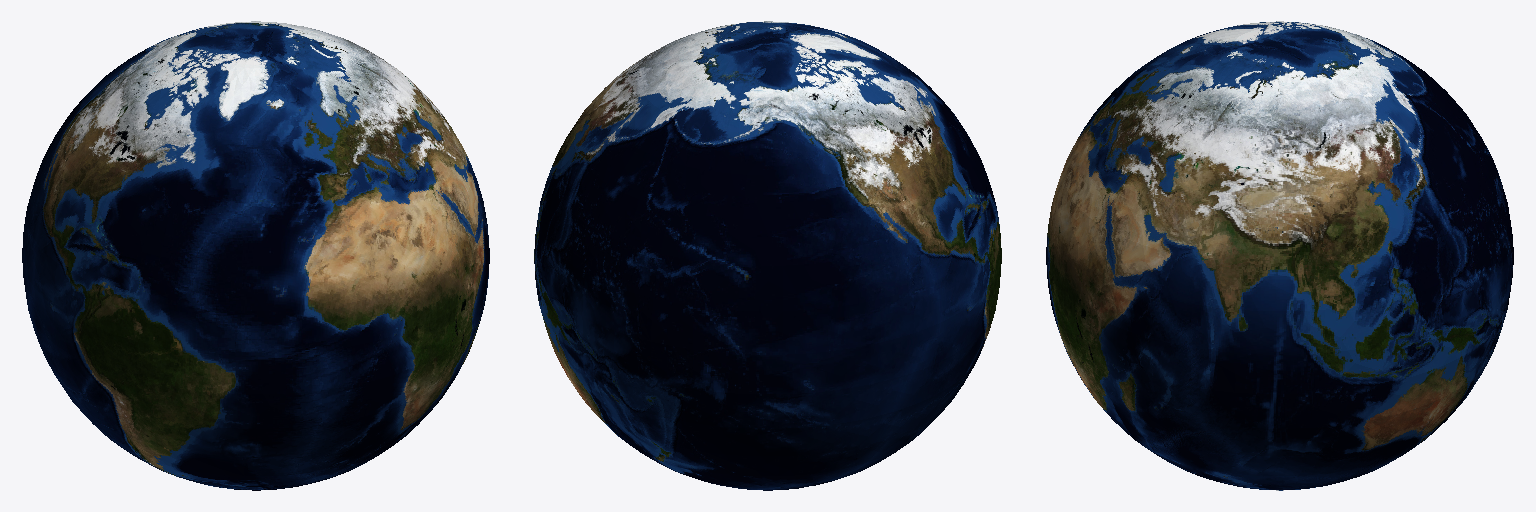
3 views of the same model, side by side, from view 1: azimuth 30°, elevation 25°; view 2: azimuth 150°, elevation 25°; view 3: azimuth 270°, elevation 25° (orthographic).
Parts seen in each view (by area): view 1: Earth; view 2: Earth; view 3: Earth.
Part boxes in pixels (bbox=[...]): Earth: bbox=[22, 21, 489, 490]; Earth: bbox=[534, 21, 1001, 490]; Earth: bbox=[1046, 21, 1513, 490].
Bounding box in the file's own units: 84.84 × 85.36 × 84.84.
1 materials, 1 textured.